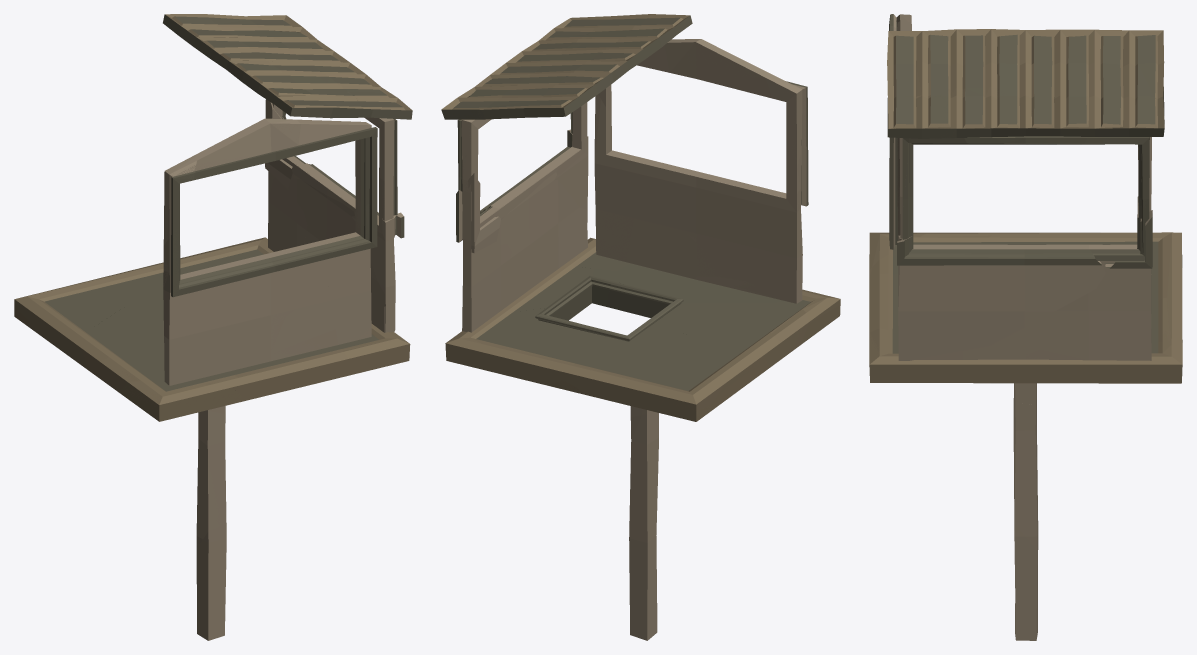
File: Tower.fbx
3 views of the same model, side by side, from view 1: azimuth 30°, elevation 25°; view 2: azimuth 150°, elevation 25°; view 3: azimuth 270°, elevation 25° (orthographic). The views are drawn at different scales.
Parts seen in each view (by area): view 1: Panel1, Floor, Roof, Panel1_cell.006, Panel2, Paste, Panel1_cell.010, Floor_cell.005, Floor_cell, Floor_cell.003, Floor_cell.004, Panel1_cell.002 (+17 smaller); view 2: Panel1, Floor, Roof, Panel2, Paste, Floor_cell.003, Paste_cell.002, Panel1_cell.010, Panel1_cell.003, Panel2_cell.008, Floor_cell.004, Floor_cell.017 (+14 smaller); view 3: Roof, Panel1_cell.010, Panel2, Floor, Paste, Roof_cell.008, Roof_cell.005, Paste_cell.002, Panel1, Floor_cell.011, Floor_cell.008, Panel2_cell.010 (+11 smaller).
Boxes of the visible parts, <box> form: Panel1: <box>163,118,377,384</box>; Floor: <box>15,237,410,421</box>; Roof: <box>163,14,412,119</box>; Panel1_cell.006: <box>163,241,335,385</box>; Panel2: <box>268,104,397,332</box>; Paste: <box>196,406,226,640</box>; Panel1_cell.010: <box>293,163,404,332</box>; Floor_cell.005: <box>119,381,241,421</box>; Floor_cell: <box>234,345,356,401</box>; Floor_cell.003: <box>82,329,164,384</box>; Floor_cell.004: <box>14,269,152,331</box>; Panel1_cell.002: <box>327,251,371,344</box>; Panel1: <box>594,39,808,303</box>; Floor: <box>445,238,840,421</box>; Roof: <box>441,14,692,119</box>; Panel2: <box>457,102,587,332</box>; Paste: <box>629,406,658,640</box>; Floor_cell.003: <box>671,306,789,367</box>; Paste_cell.002: <box>629,411,658,554</box>; Panel1_cell.010: <box>480,129,588,222</box>; Panel1_cell.003: <box>668,39,772,98</box>; Panel2_cell.008: <box>462,244,511,332</box>; Floor_cell.004: <box>568,358,729,411</box>; Floor_cell.017: <box>515,267,611,317</box>; Roof: <box>887,29,1164,138</box>; Panel1_cell.010: <box>897,235,1105,360</box>; Panel2: <box>899,136,1151,360</box>; Floor: <box>869,232,1182,383</box>; Paste: <box>1013,383,1038,640</box>; Roof_cell.008: <box>940,87,1062,138</box>; Roof_cell.005: <box>887,94,941,138</box>; Paste_cell.002: <box>1014,395,1037,550</box>; Panel1: <box>889,14,911,249</box>; Floor_cell.011: <box>869,232,998,277</box>; Floor_cell.008: <box>869,328,947,382</box>; Panel2_cell.010: <box>1104,196,1152,268</box>.
Bounding box in the file's own units: 587 × 1215 × 559.
